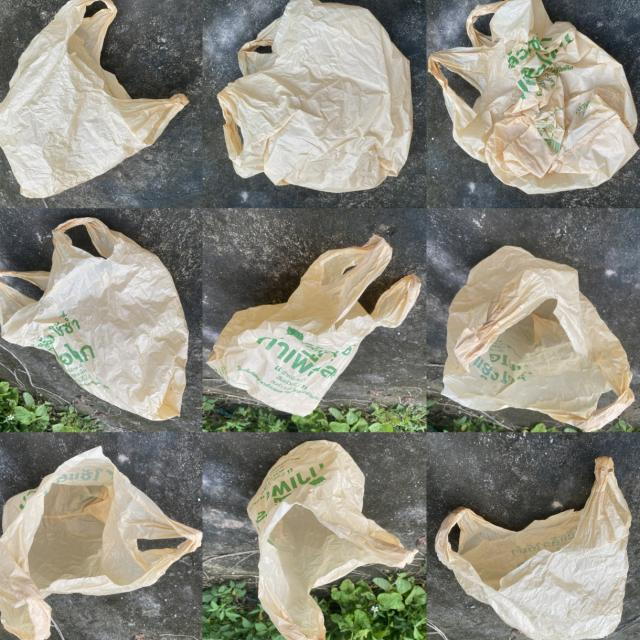plastik: (429, 0, 639, 194), (0, 447, 202, 640), (207, 236, 421, 416), (217, 0, 413, 193), (0, 219, 188, 420), (0, 0, 188, 198), (435, 457, 631, 640), (443, 247, 633, 431), (248, 440, 417, 640)
